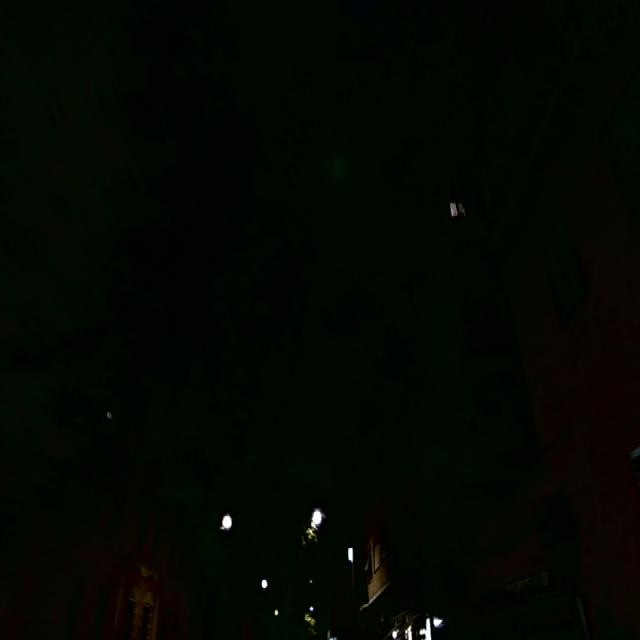lampione: (218, 504, 240, 541), (308, 495, 326, 537), (303, 590, 320, 626), (342, 542, 359, 569), (256, 571, 273, 595), (385, 624, 406, 640), (272, 602, 280, 626)
